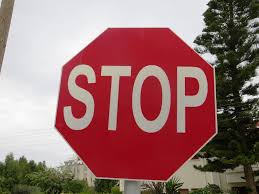stop sign: (56, 28, 217, 182)
